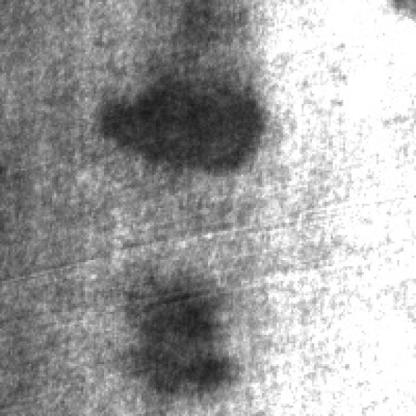patches: (92, 54, 266, 177), (122, 264, 224, 395)
